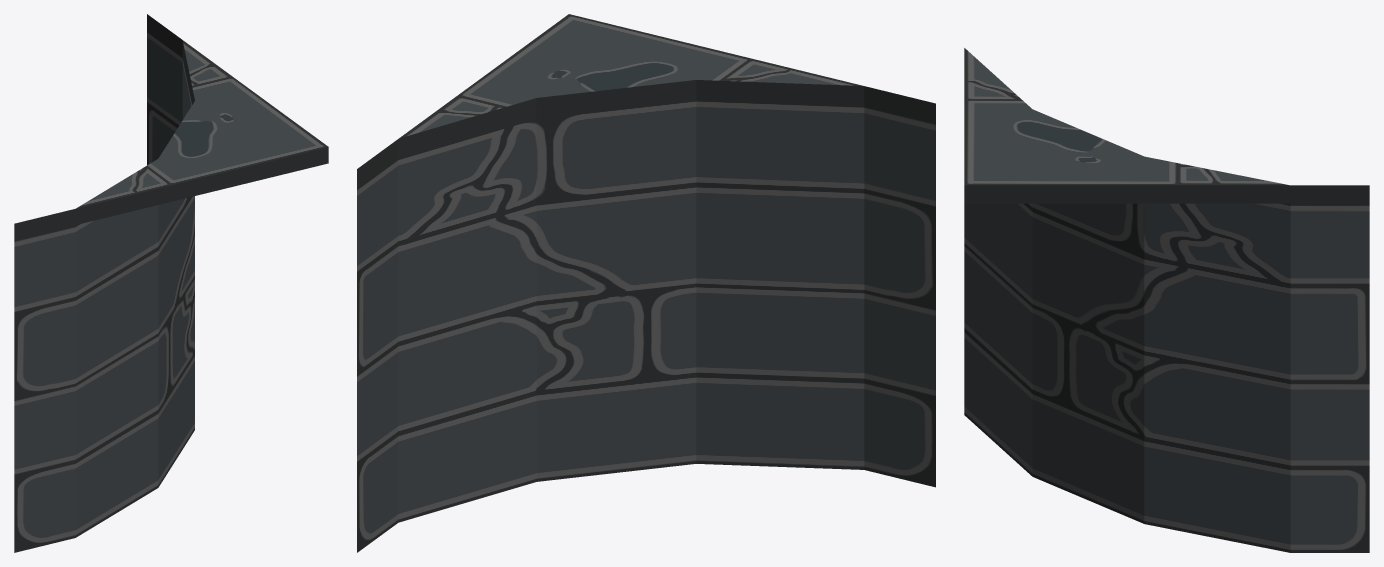
File: Wall-SCURVE-SE_v1.1.fbx
The picture shows the model from 3 angles, left to right: view 1: azimuth 30°, elevation 25°; view 2: azimuth 150°, elevation 25°; view 3: azimuth 270°, elevation 25°; orthographic projection. The views are drawn at different scales.
Parts seen in each view (by area): view 1: Tile.006; view 2: Tile.006; view 3: Tile.006.
Part boxes in pixels (bbox=[...]): Tile.006: bbox=[14, 14, 328, 552]; Tile.006: bbox=[357, 14, 935, 552]; Tile.006: bbox=[964, 48, 1369, 552].
Bounding box in the file's own units: 100 × 100 × 100.
